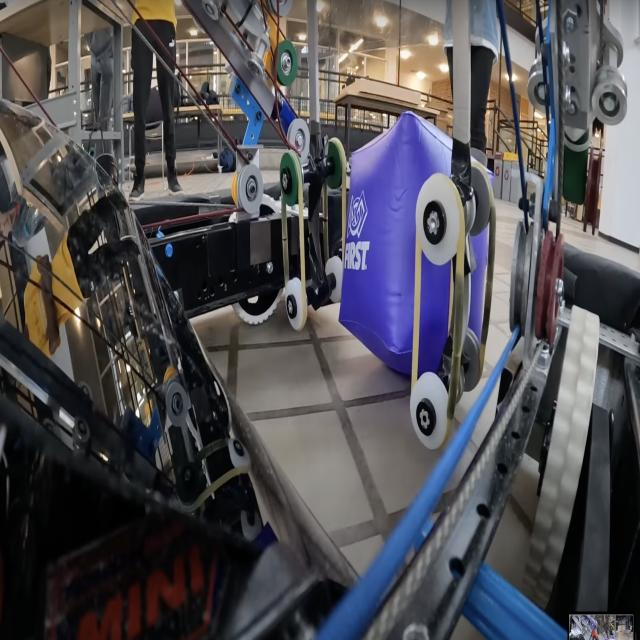frc_cube: (342, 109, 491, 382)
